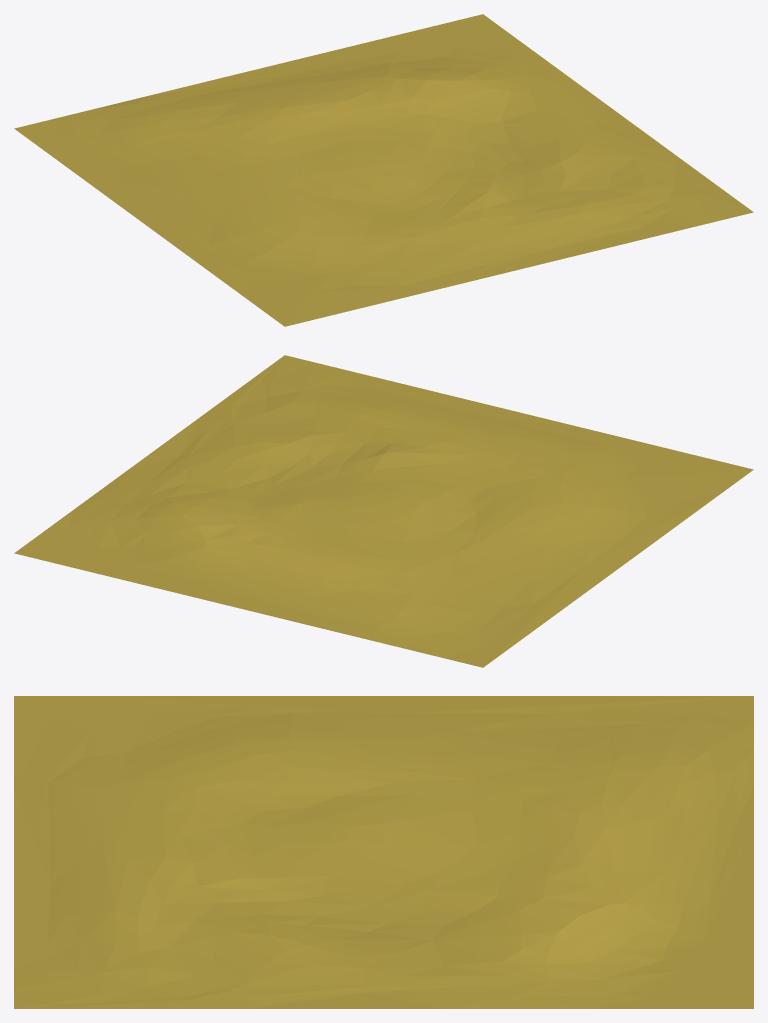
Rendered from Terrain_13.glb.
3 views of the same model, one above another, from view 1: azimuth 30°, elevation 25°; view 2: azimuth 150°, elevation 25°; view 3: azimuth 270°, elevation 25° (orthographic). The views are drawn at different scales.
Visible parts, largest first — view 1: Terrain_13; view 2: Terrain_13; view 3: Terrain_13.
Part boxes in pixels (x1=…): Terrain_13: x1=14, y1=14, x2=753, y2=326; Terrain_13: x1=14, y1=355, x2=753, y2=667; Terrain_13: x1=14, y1=696, x2=753, y2=1008.
Bounding box in the file's own units: 128 × 2.57 × 128.
1 material, 1 textured.
